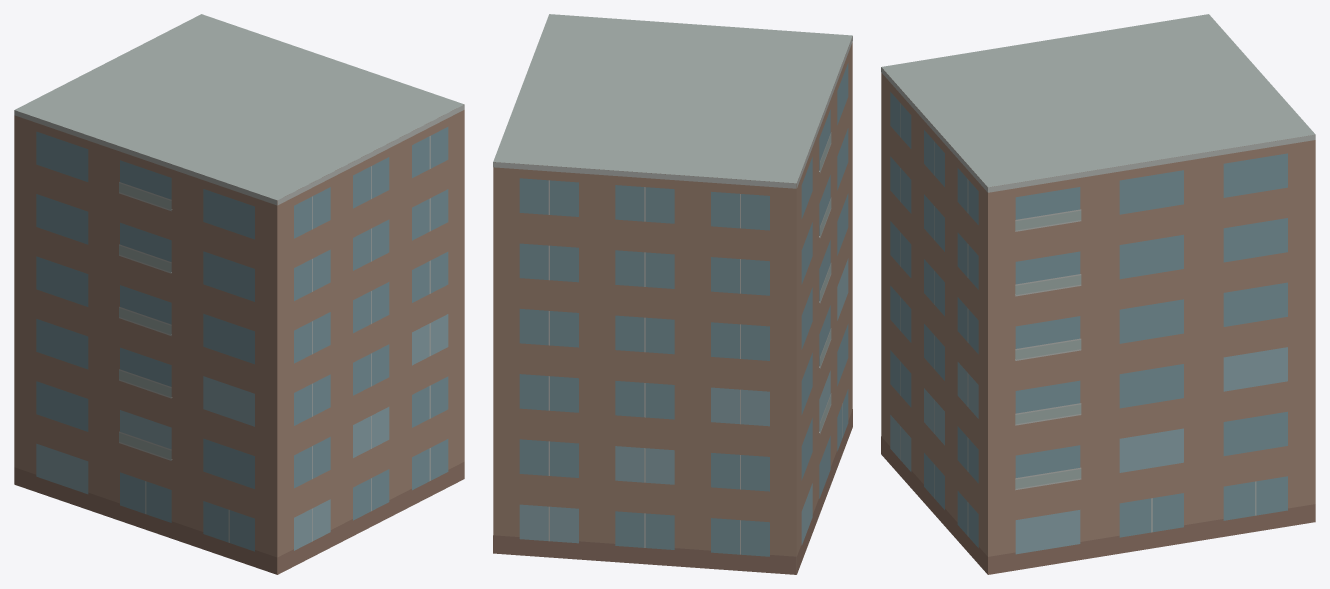
The model's file is survey-upis-32857762.glb.
3 renders of one model, left to right at view 1: azimuth 30°, elevation 25°; view 2: azimuth 150°, elevation 25°; view 3: azimuth 270°, elevation 25°, orthographic. The views are drawn at different scales.
Visible parts, largest first — view 1: survey-upis-32857762.tmp; view 2: survey-upis-32857762.tmp; view 3: survey-upis-32857762.tmp.
Boxes of the visible parts, <box> form: survey-upis-32857762.tmp: <box>14,14,464,574</box>; survey-upis-32857762.tmp: <box>493,14,852,574</box>; survey-upis-32857762.tmp: <box>881,14,1315,574</box>.
Size of the model in its own units: 16.91 by 17.6 by 17.9.
